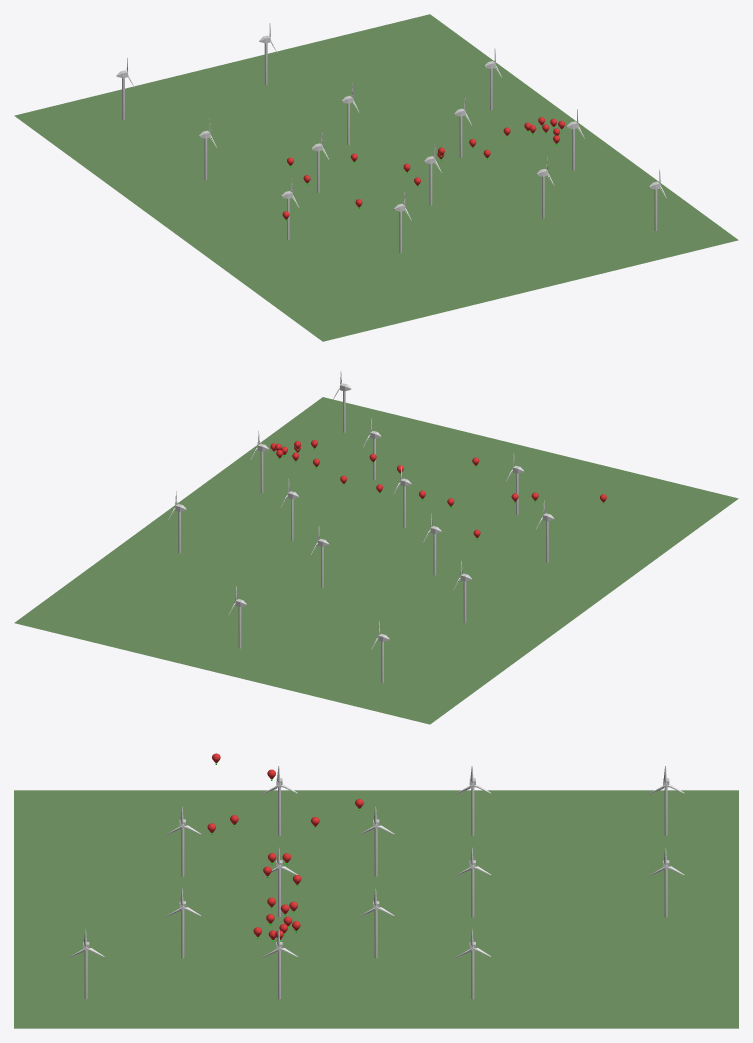
File: balloon-farm.glb
The picture shows the model from 3 angles, top to bottom: view 1: azimuth 30°, elevation 25°; view 2: azimuth 150°, elevation 25°; view 3: azimuth 270°, elevation 25°; orthographic projection. The views are drawn at different scales.
Visible parts, largest first — view 1: Ground; view 2: Ground; view 3: Ground.
Boxes of the visible parts, <box> form: Ground: <box>14,14,738,341</box>; Ground: <box>14,397,738,724</box>; Ground: <box>14,790,738,1028</box>.
Size of the model in its own units: 175 by 25.38 by 225.
